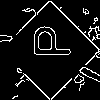P: (25, 25, 70, 58)
